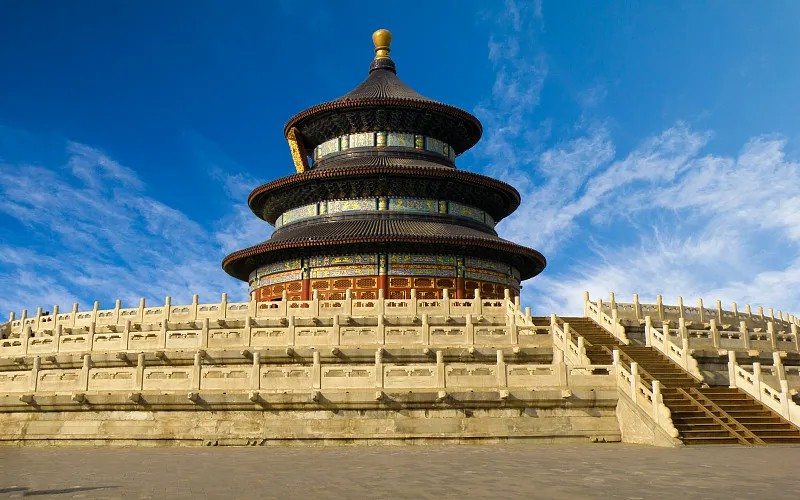Heaven: (221, 28, 546, 299)
